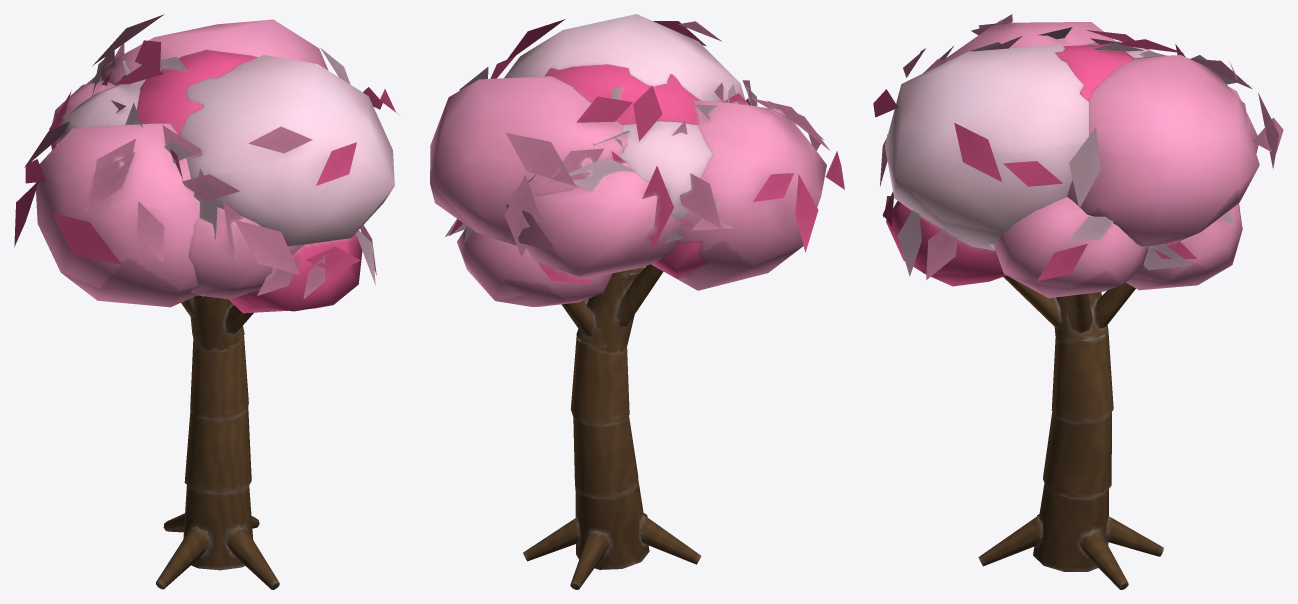
The model's file is rc_blossom_tree.glb.
3 renders of one model, left to right at view 1: azimuth 30°, elevation 25°; view 2: azimuth 150°, elevation 25°; view 3: azimuth 270°, elevation 25°, orthographic. The views are drawn at different scales.
Parts seen in each view (by area): view 1: rc_blossom_tree; view 2: rc_blossom_tree; view 3: rc_blossom_tree.
Part boxes in pixels (bbox=[...]): rc_blossom_tree: bbox=[14, 14, 398, 589]; rc_blossom_tree: bbox=[430, 14, 844, 589]; rc_blossom_tree: bbox=[873, 14, 1283, 589].
Bounding box in the file's own units: 4.71 × 6.21 × 4.5.
4 materials, 4 textured.
